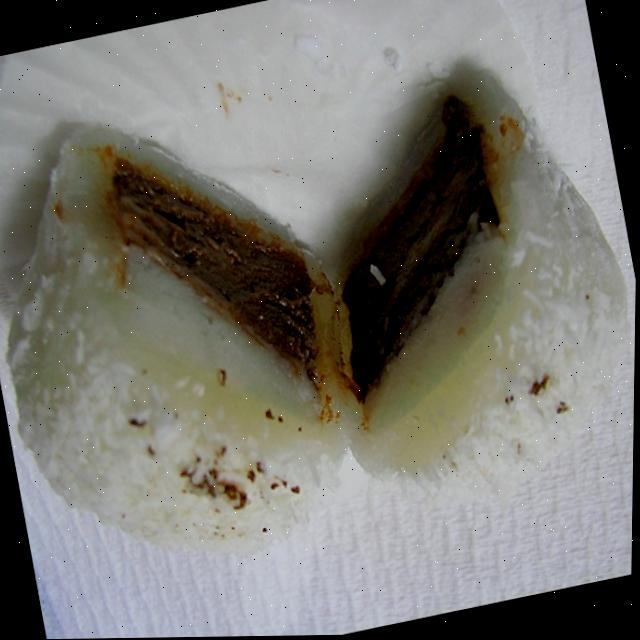蛋糕甜品: (0, 26, 640, 635)
